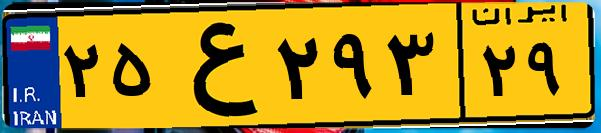2: (270, 28, 330, 110), (57, 26, 110, 100), (475, 38, 525, 113)
3: (385, 28, 445, 110)
5: (110, 28, 158, 98)
9: (330, 28, 385, 110), (525, 38, 570, 115)
ع: (158, 12, 270, 120)
